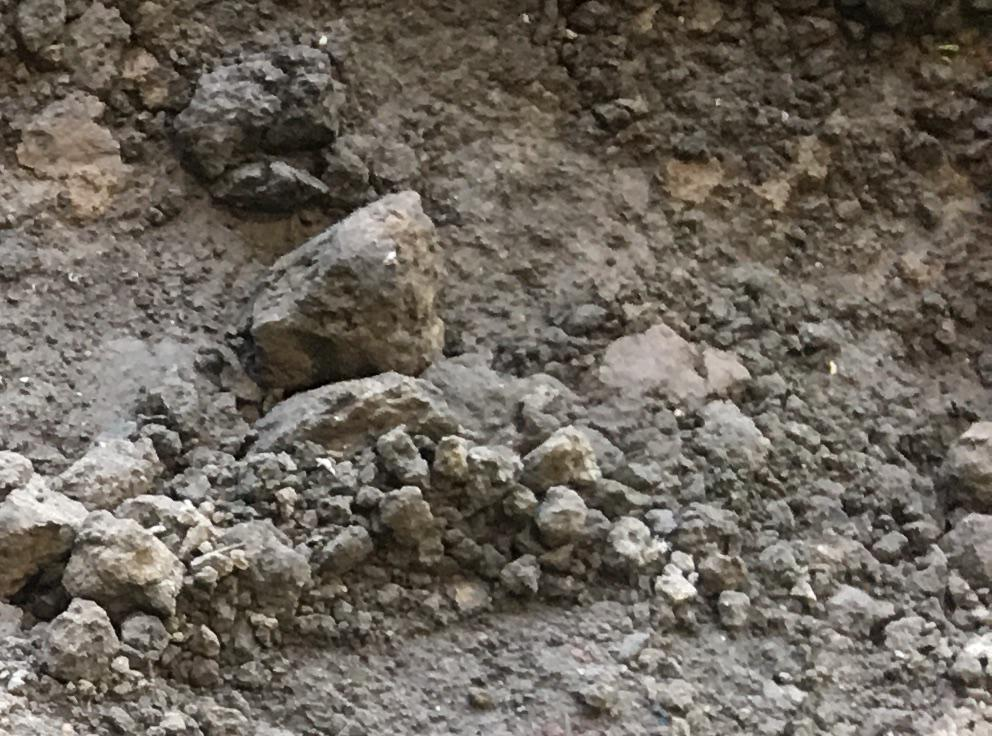block: (244, 194, 447, 369), (183, 54, 345, 207), (244, 375, 458, 459), (64, 507, 183, 617), (1, 464, 85, 598)
